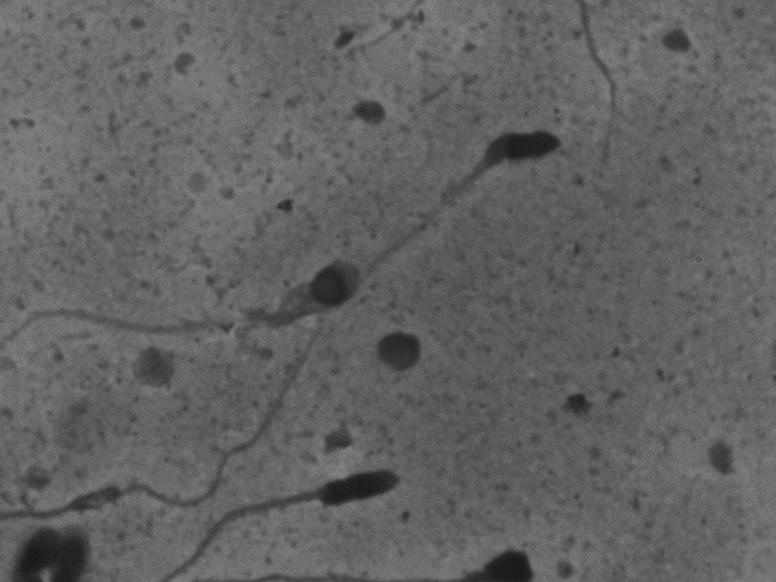Abnormal: (25, 222, 366, 379), (375, 100, 583, 296), (172, 465, 431, 574)
